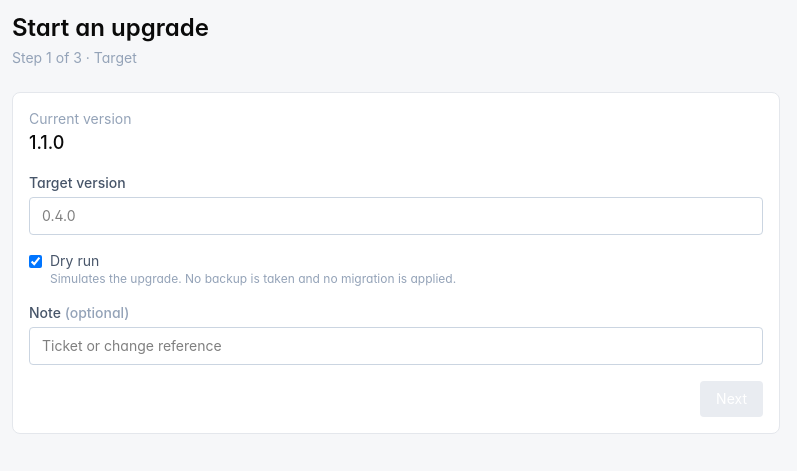
StartUpgradePage › keeps Next disabled for a non-semver target or the running version
Expected: the text "1.1.0" is shown, [29,132,64,153]
Type "not-a-version" into the field labelled "Target version".
click(396, 216); type("not-a-version")  # box [29,197,763,235]
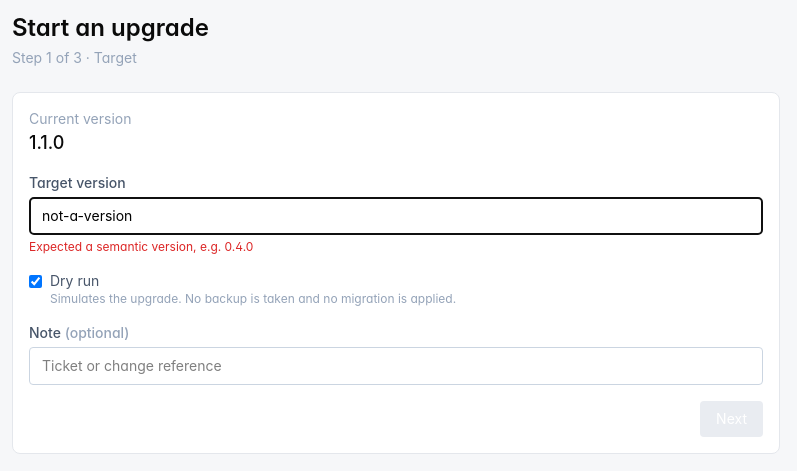
Replace the text in the field labelled "Target version" with "1.1.0" at (396, 216), box [29,197,763,235]
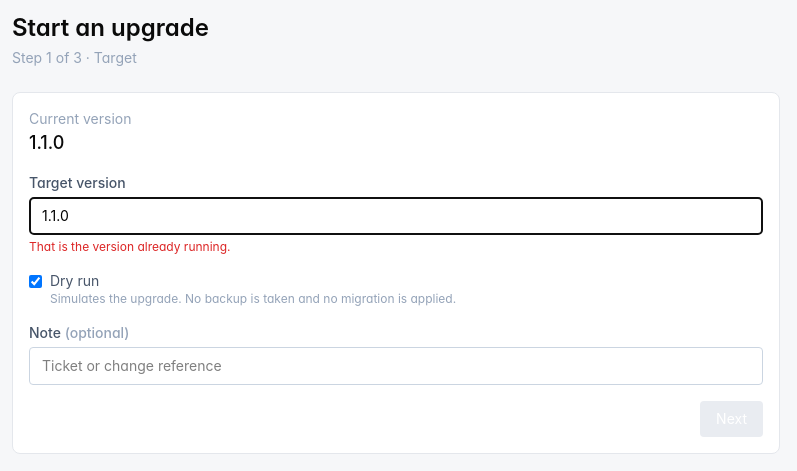
Replace the text in the field labelled "Target version" with "1.2.0" at (396, 216), box [29,197,763,235]
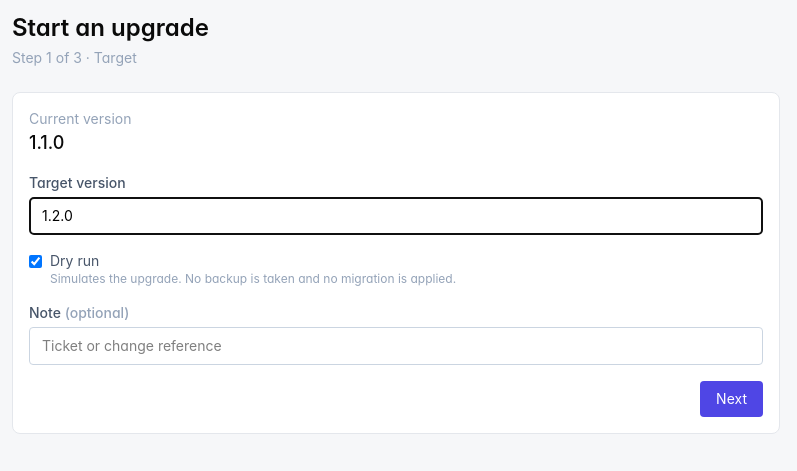
Now the button "Next" is enabled, box [700,381,763,417]
